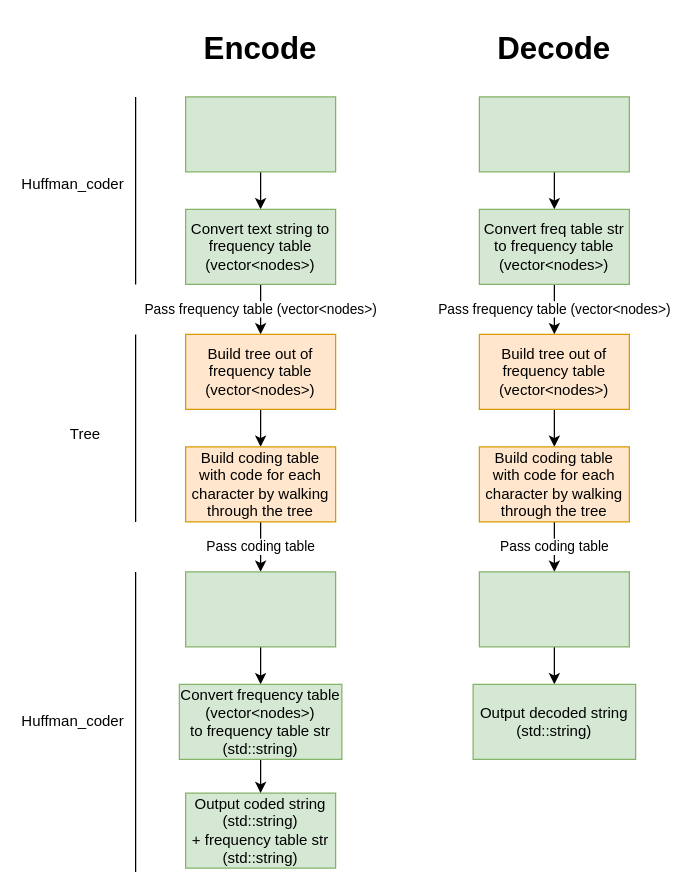
The diagram is 691 pixels wide and 895 high, and some of its shapes have lost their labels. The shapes that lost their labels are listed below. From the top down, each one's box as (x1, y1, x2, y2) in pixels, then its label:
(184, 96, 336, 172): Encode string (std::string)
(478, 96, 629, 172): Decode string (std::string) + frequency table str (std::string)
(184, 571, 336, 647): Encode the original string using the coding table
(478, 571, 629, 647): Decode the coded string using the coding table
